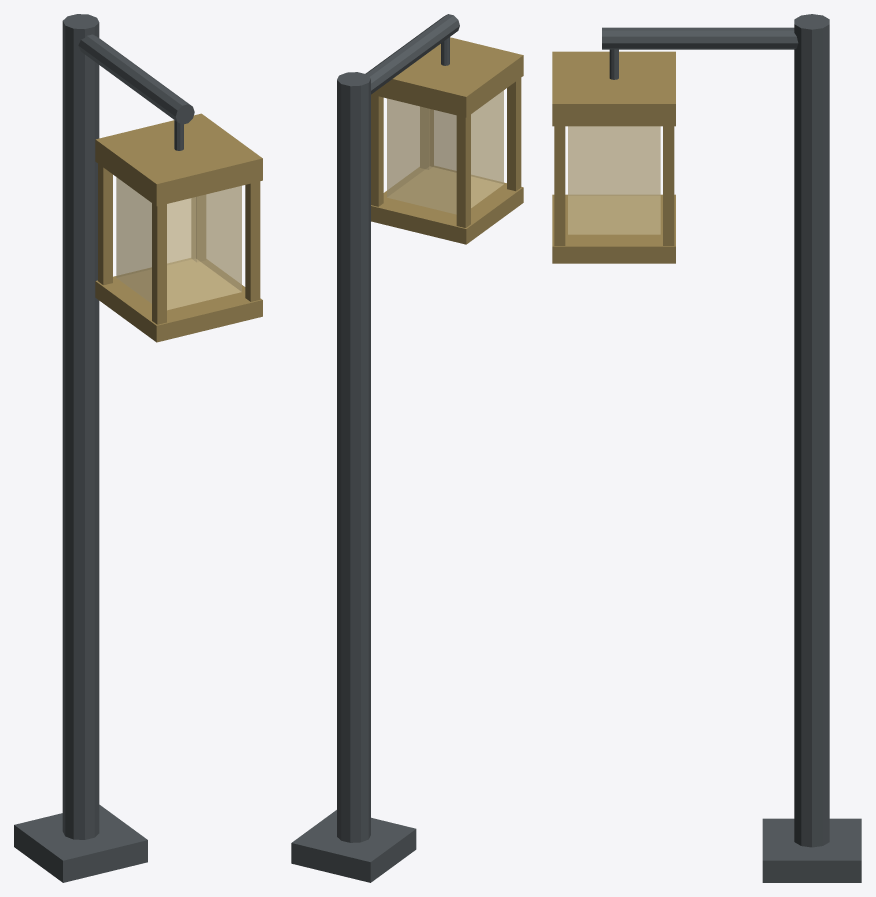
The model's file is SM_Module_Lantern.glb.
The picture shows the model from 3 angles, left to right: view 1: azimuth 30°, elevation 25°; view 2: azimuth 150°, elevation 25°; view 3: azimuth 270°, elevation 25°; orthographic projection. The views are drawn at different scales.
Parts seen in each view (by area): view 1: pole, glass, cap, base, foot, arm, post3, post2, post0, post1; view 2: pole, glass, base, cap, foot, arm, post0, post2, post1, post3; view 3: pole, glass, cap, base, foot, arm, post1, post3.
Boxes of the visible parts, bbox=[...] form: pole: bbox=[62, 14, 99, 839]; glass: bbox=[116, 177, 241, 310]; cap: bbox=[95, 113, 262, 206]; base: bbox=[95, 258, 262, 342]; foot: bbox=[14, 804, 147, 882]; arm: bbox=[78, 34, 194, 124]; post3: bbox=[245, 181, 260, 301]; post2: bbox=[152, 203, 166, 324]; post0: bbox=[98, 164, 112, 285]; post1: bbox=[191, 195, 205, 261]; pole: bbox=[337, 72, 370, 842]; glass: bbox=[387, 90, 503, 214]; base: bbox=[371, 166, 523, 244]; cap: bbox=[371, 37, 523, 117]; foot: bbox=[291, 810, 416, 882]; arm: bbox=[365, 14, 459, 94]; post0: bbox=[456, 114, 470, 227]; post2: bbox=[507, 78, 521, 191]; post1: bbox=[371, 94, 383, 206]; post3: bbox=[420, 107, 433, 169]; pole: bbox=[794, 14, 829, 847]; glass: bbox=[568, 126, 660, 234]; cap: bbox=[552, 51, 675, 126]; base: bbox=[552, 194, 675, 263]; foot: bbox=[762, 818, 861, 882]; arm: bbox=[602, 27, 798, 49]; post1: bbox=[663, 126, 674, 245]; post3: bbox=[554, 126, 565, 245].
Size of the model in its own units: 0.2 by 1.5 by 0.5.
